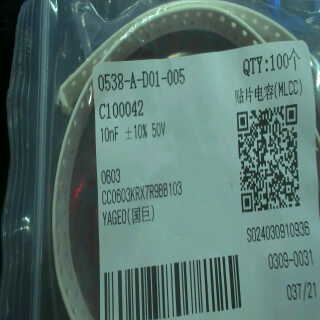10nF: (99, 122, 121, 144)
